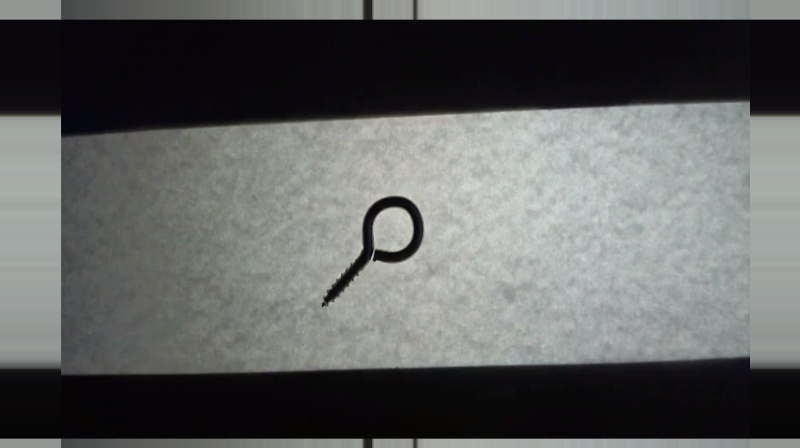O001: (315, 189, 427, 309)
